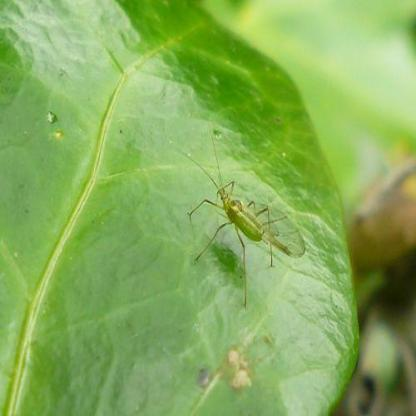aphid: (197, 136, 308, 310)
